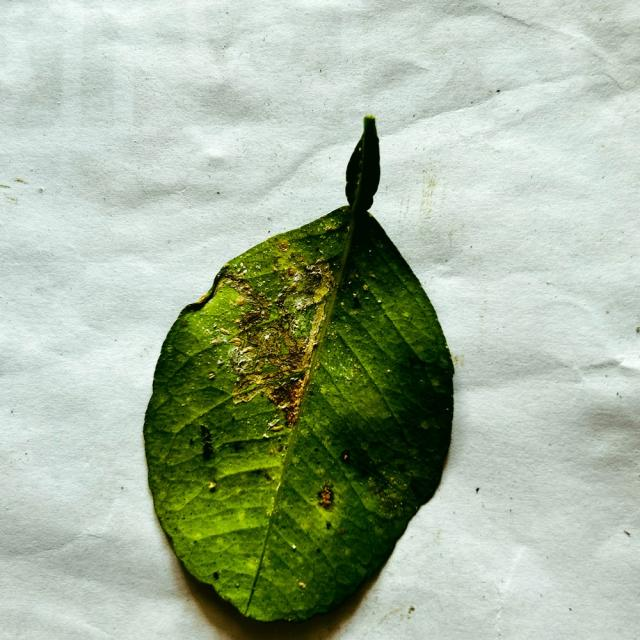Bacterial_Blight: (252, 338, 297, 370)
